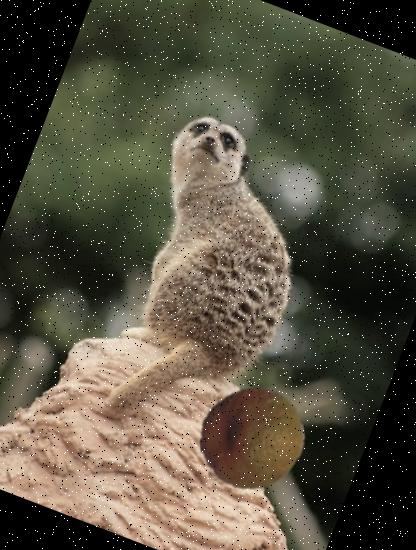Mandarine: (184, 371, 320, 507)
